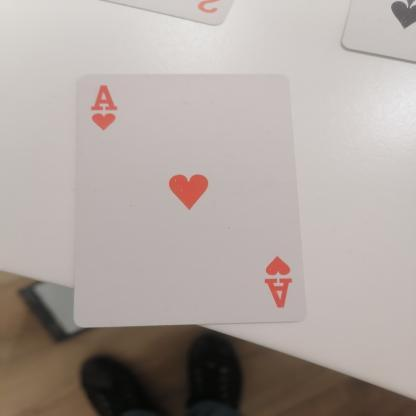AH: (239, 246, 303, 314), (84, 77, 129, 134)
